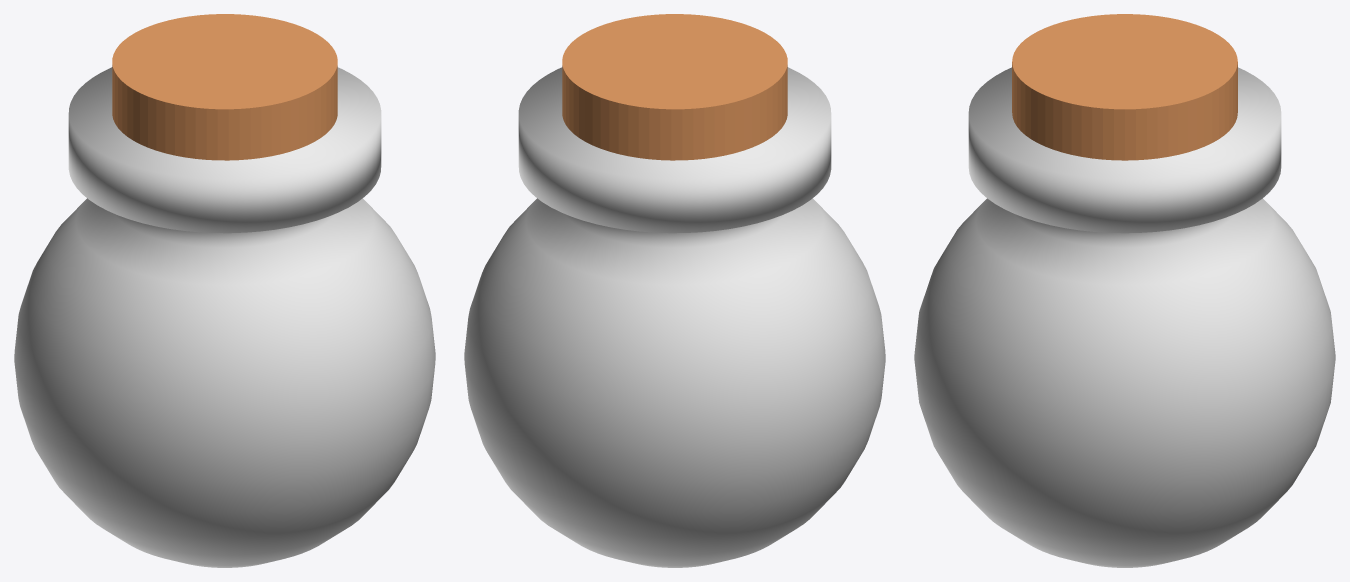
The model's file is potionBottle.fbx.
The picture shows the model from 3 angles, left to right: view 1: azimuth 30°, elevation 25°; view 2: azimuth 150°, elevation 25°; view 3: azimuth 270°, elevation 25°; orthographic projection.
Visible parts, largest first — view 1: bottle, Cylinder; view 2: bottle, Cylinder; view 3: bottle, Cylinder.
Boxes of the visible parts, x1,y1,x2,y2 form: bottle: (14,67,435,567); Cylinder: (112,14,337,160); bottle: (464,67,885,567); Cylinder: (562,14,787,160); bottle: (914,67,1335,567); Cylinder: (1012,14,1237,160).
Bounding box in the file's own units: 221 × 282 × 221.
